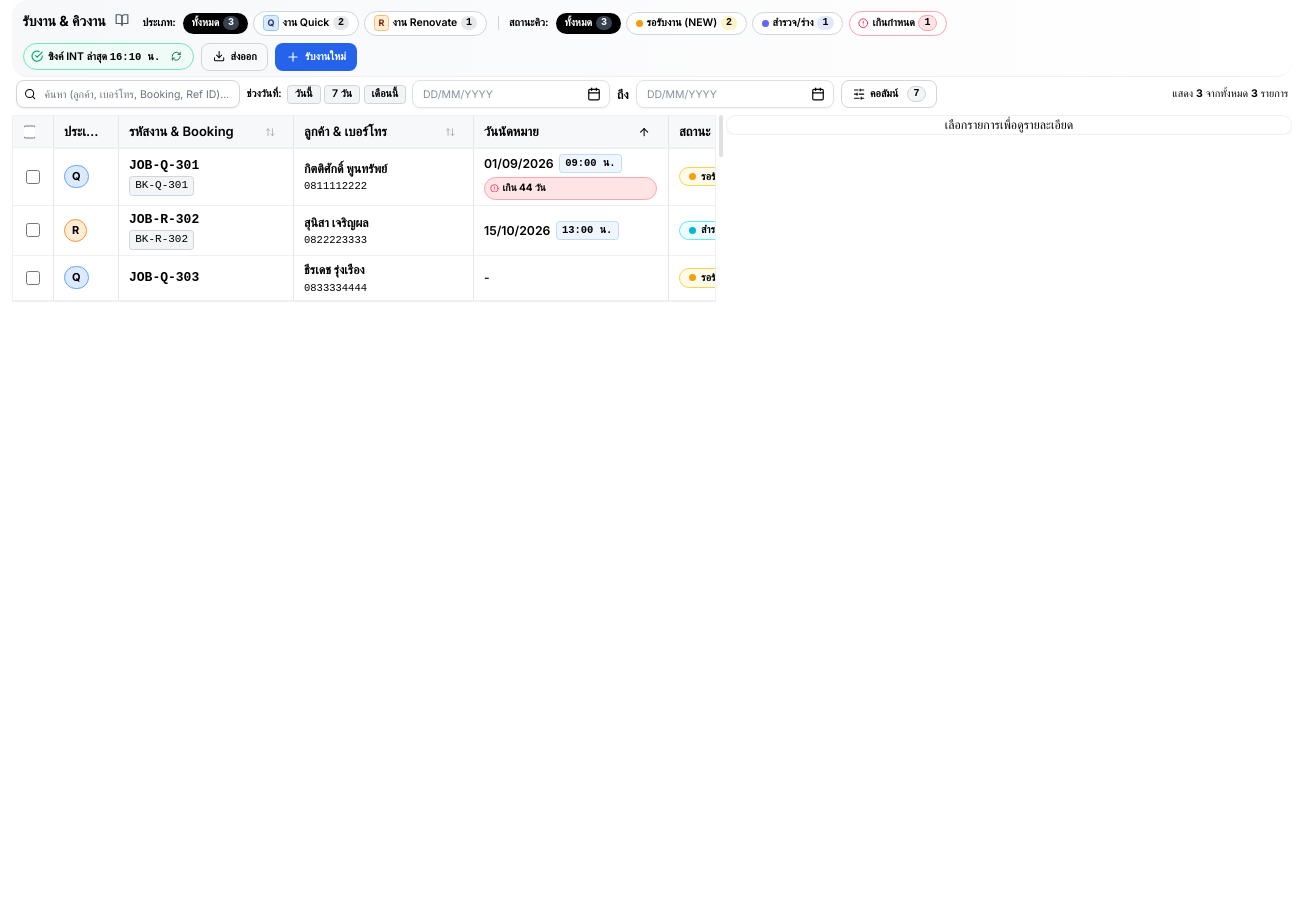
Test: Phase 3 — Toolbar, Filters, Bulk Accept & INT Sync › 3. Checkbox Row Selection & Floating Bulk Action Bar › selects all rows when header checkbox is clicked
Note: Click select all
Click the checkbox named "เลือกทั้งหมด" at point(29, 132), box [23,125,36,139]
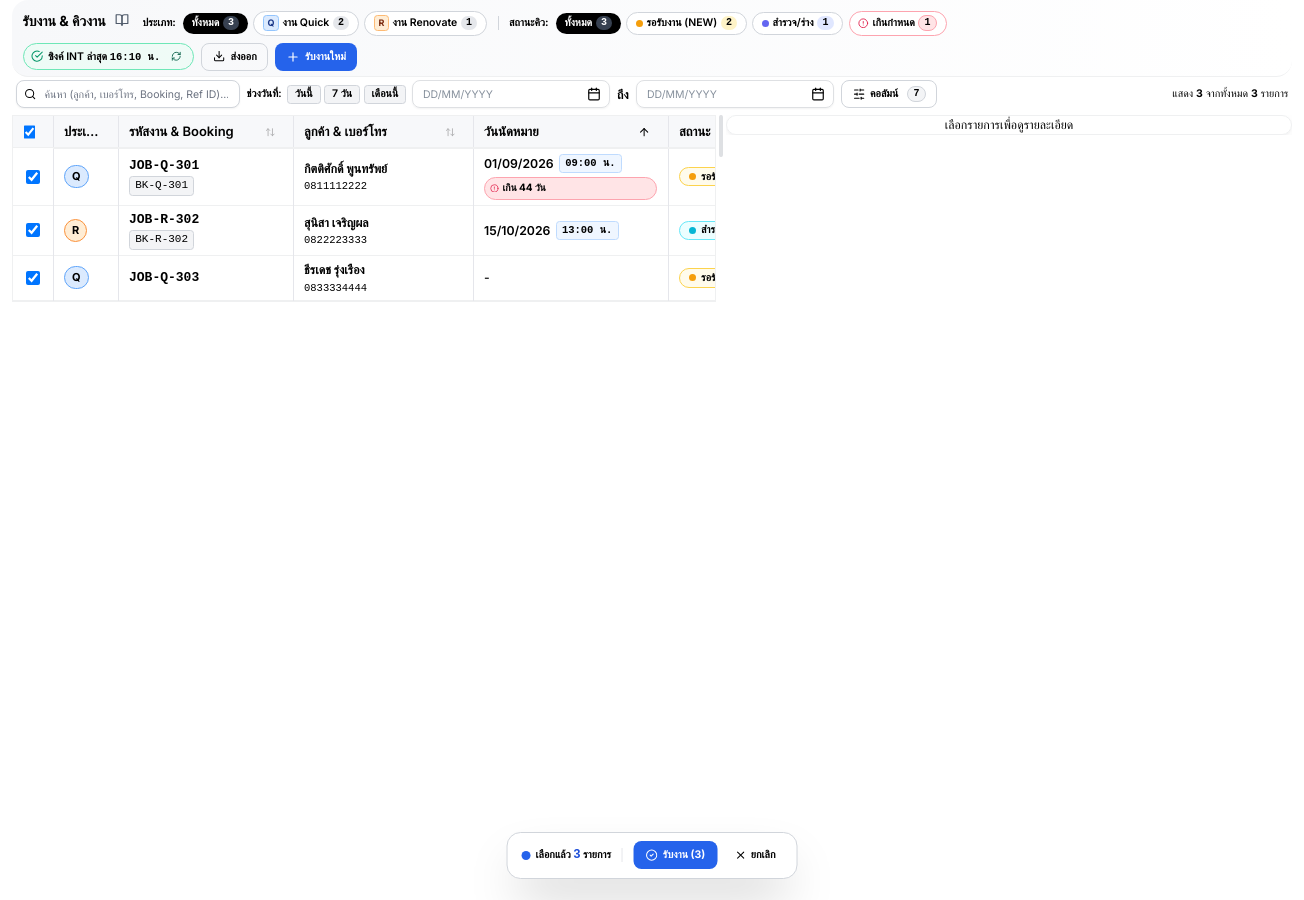
Now the text "รับงาน (3)" is shown, box [663,848,705,862]
Note: Click "ยกเลิก"
Click the button "ยกเลิก" at point(755, 855), box [728,841,782,869]
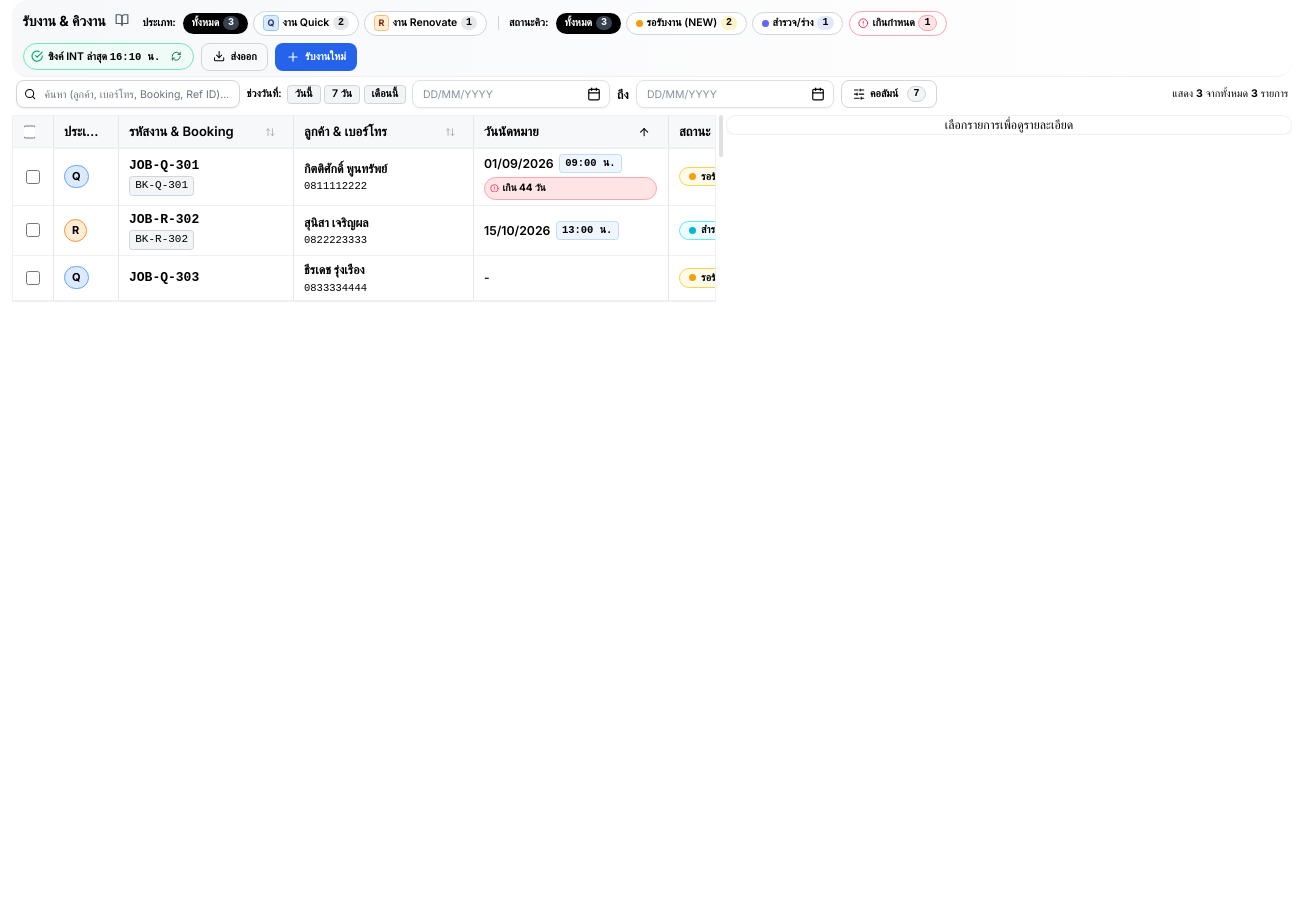
Now the text "เลือกแล้ว" is gone
